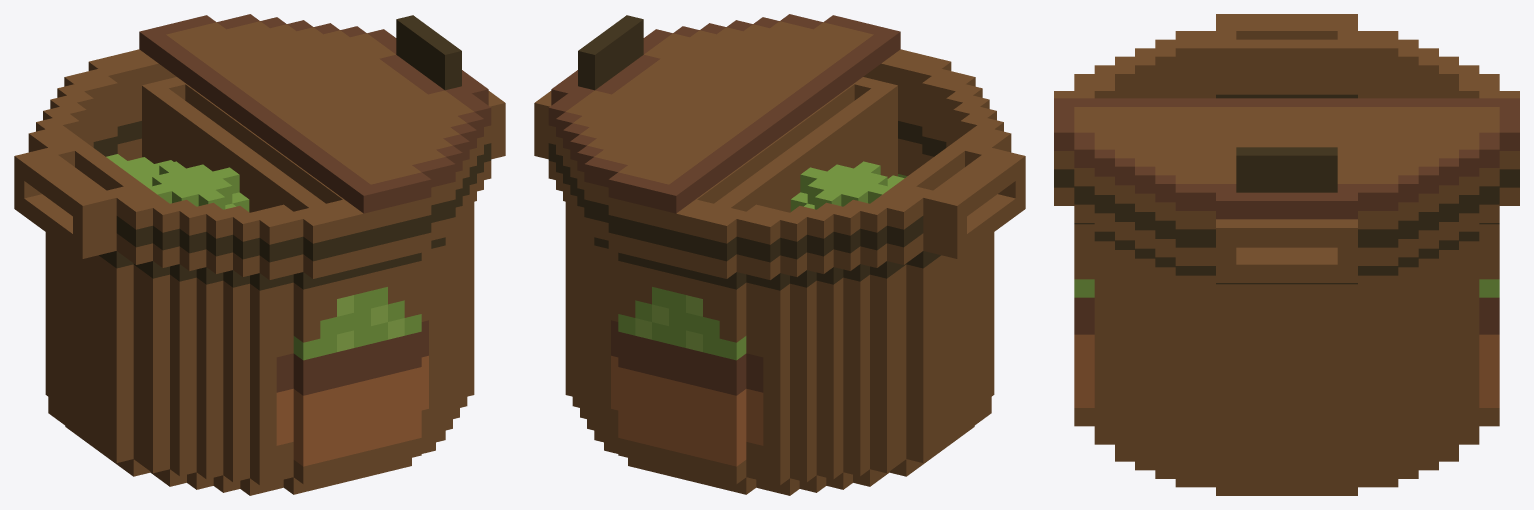
File: Box_Bread_Green.fbx
The picture shows the model from 3 angles, left to right: view 1: azimuth 30°, elevation 25°; view 2: azimuth 150°, elevation 25°; view 3: azimuth 270°, elevation 25°; orthographic projection. The views are drawn at different scales.
Visible parts, largest first — view 1: Box_Bread_Green:Box_Bread_Green; view 2: Box_Bread_Green:Box_Bread_Green; view 3: Box_Bread_Green:Box_Bread_Green.
Boxes of the visible parts, x1,y1,x2,y2 form: Box_Bread_Green:Box_Bread_Green: (14, 14, 505, 495); Box_Bread_Green:Box_Bread_Green: (534, 14, 1025, 495); Box_Bread_Green:Box_Bread_Green: (1054, 14, 1519, 495).
Size of the model in its own units: 25 by 19 by 23.
